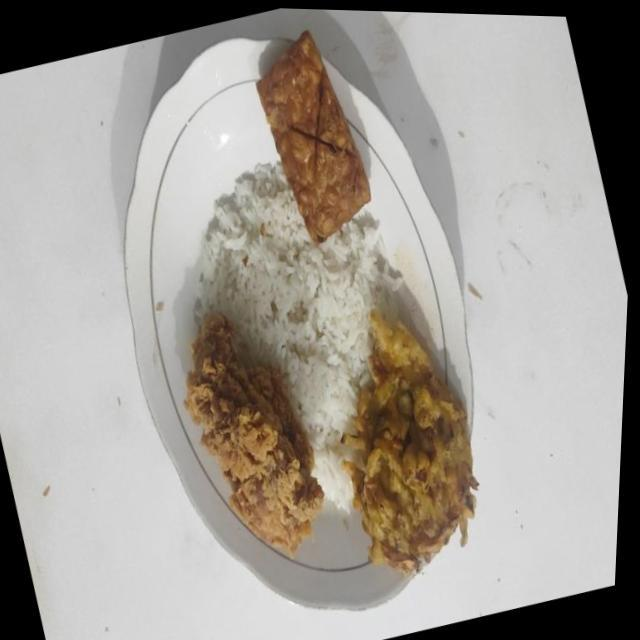nasi_putih: (195, 162, 402, 512)
tempe_goreng: (256, 30, 370, 243)
